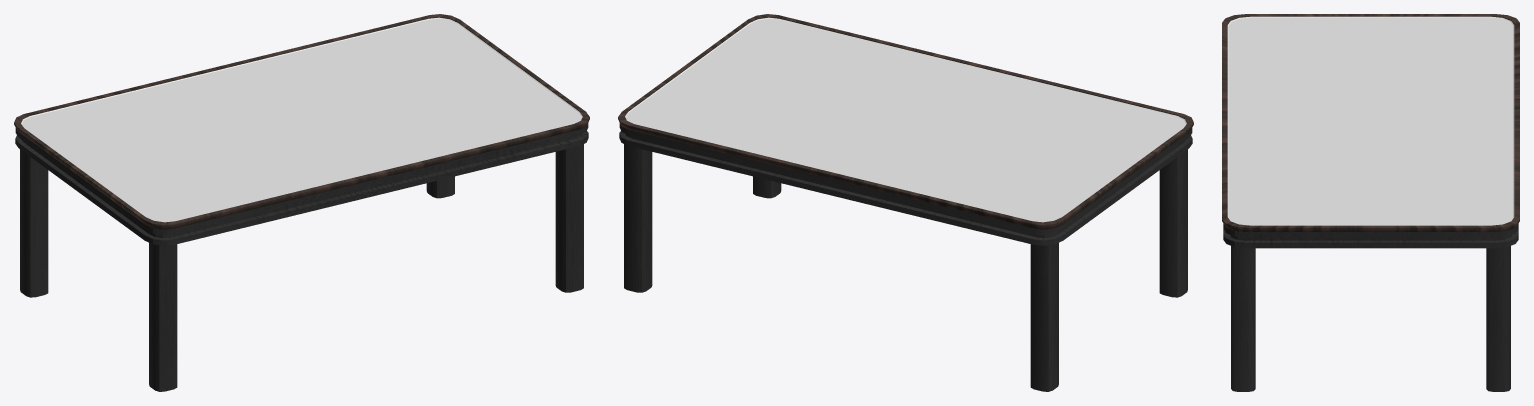
File: Table.fbx
3 views of the same model, side by side, from view 1: azimuth 30°, elevation 25°; view 2: azimuth 150°, elevation 25°; view 3: azimuth 270°, elevation 25° (orthographic).
Parts seen in each view (by area): view 1: Cube, Cube.001; view 2: Cube, Cube.001; view 3: Cube, Cube.001.
Boxes of the visible parts, <box> form: Cube: <box>14,14,589,245</box>; Cube.001: <box>20,144,583,391</box>; Cube: <box>618,14,1193,245</box>; Cube.001: <box>624,144,1187,391</box>; Cube: <box>1222,14,1519,248</box>; Cube.001: <box>1231,246,1510,391</box>.
Bounding box in the file's own units: 2.98 × 1.09 × 1.76.
Materials: 3 (2 with a texture image).
